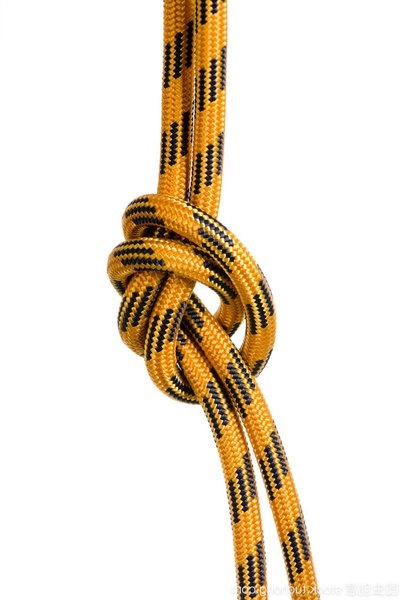9/可回收垃圾/绳子: (107, 1, 320, 600)
